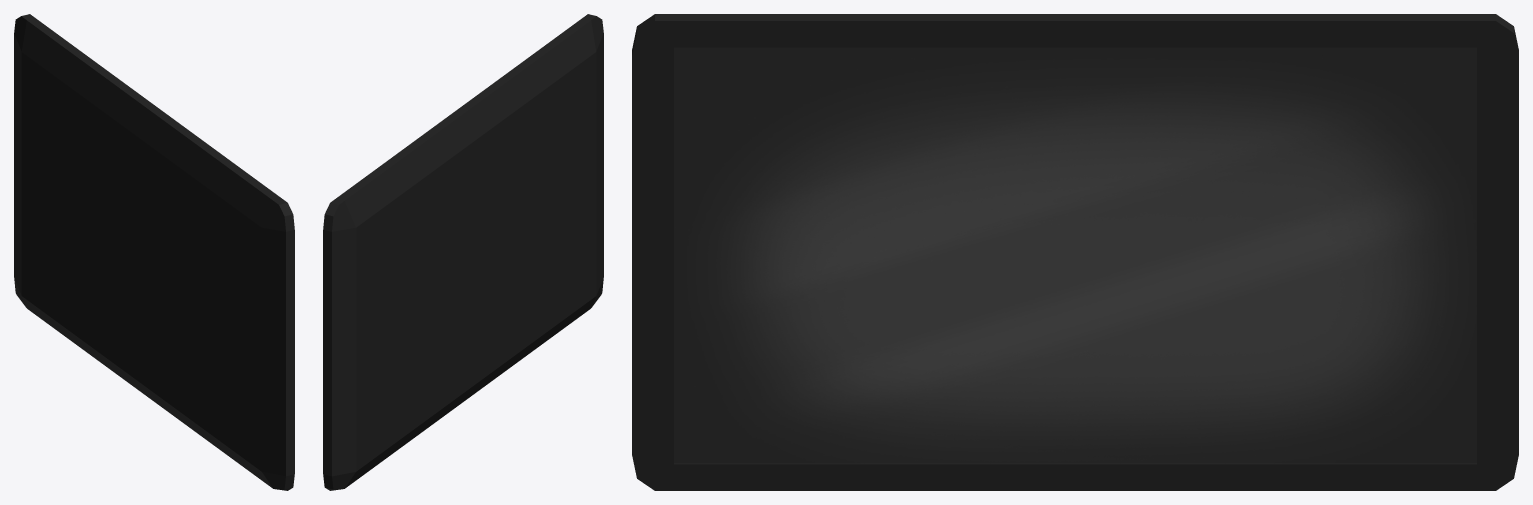
3 views of the same model, side by side, from view 1: azimuth 30°, elevation 25°; view 2: azimuth 150°, elevation 25°; view 3: azimuth 270°, elevation 25° (orthographic). The views are drawn at different scales.
Parts seen in each view (by area): view 1: tv_mesh; view 2: tv_mesh; view 3: tv_mesh.
Part boxes in pixels (x1,y1,x2,y2): tv_mesh: [14, 14, 294, 490]; tv_mesh: [323, 14, 603, 490]; tv_mesh: [632, 14, 1518, 490].
Bounding box in the file's own units: 0.0794 × 1.28 × 2.18.
